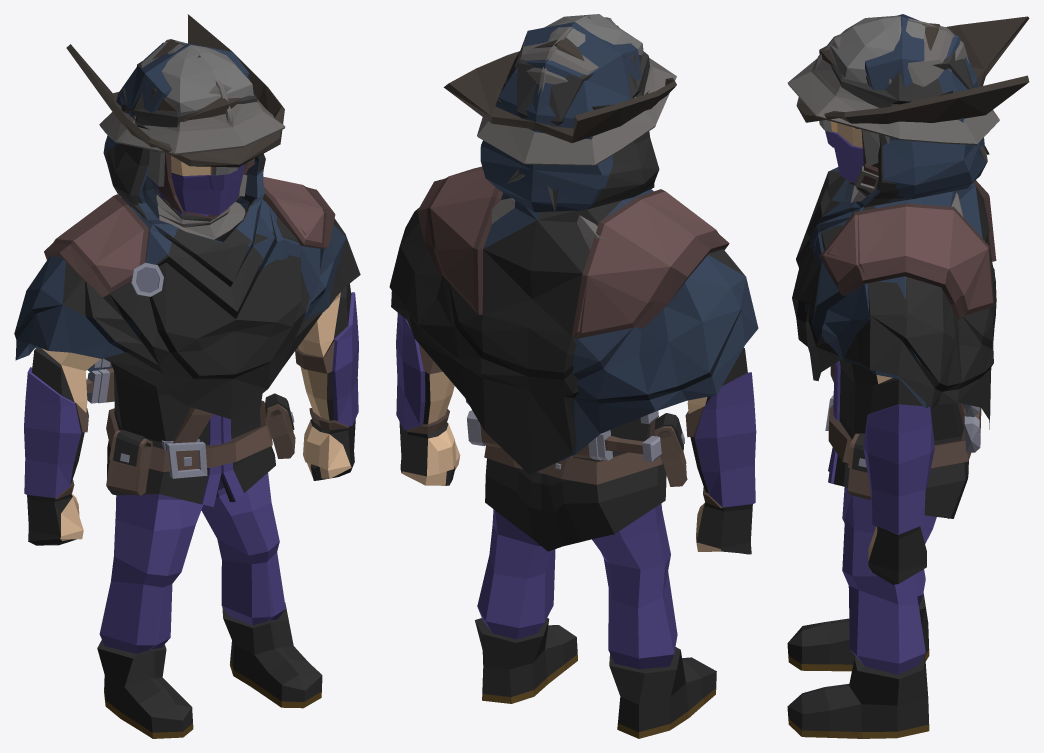
File: HATS_Rogue_male.fbx
The picture shows the model from 3 angles, left to right: view 1: azimuth 30°, elevation 25°; view 2: azimuth 150°, elevation 25°; view 3: azimuth 270°, elevation 25°; orthographic projection. The views are drawn at different scales.
Parts seen in each view (by area): view 1: rogue_03a_hats:rogue_base_male, rogue_03a_hats:shall1, rogue_03a_hats:shall2, rogue_03a_hats:chainHelm, rogue_03a_hats:pothelm, rogue_03a_hats:huntersHat, rogue_03a_hats:bandana; view 2: rogue_03a_hats:rogue_base_male, rogue_03a_hats:shall2, rogue_03a_hats:shall1, rogue_03a_hats:pothelm, rogue_03a_hats:huntersHat, rogue_03a_hats:bandana, rogue_03a_hats:chainHelm; view 3: rogue_03a_hats:rogue_base_male, rogue_03a_hats:shall1, rogue_03a_hats:shall2, rogue_03a_hats:pothelm, rogue_03a_hats:huntersHat, rogue_03a_hats:chainHelm, rogue_03a_hats:bandana.
Part boxes in pixels (x1=…): rogue_03a_hats:rogue_base_male: x1=24, y1=155, x2=358, y2=738; rogue_03a_hats:shall1: x1=48, y1=107, x2=360, y2=419; rogue_03a_hats:shall2: x1=14, y1=42, x2=346, y2=371; rogue_03a_hats:chainHelm: x1=119, y1=42, x2=254, y2=239; rogue_03a_hats:pothelm: x1=99, y1=39, x2=285, y2=219; rogue_03a_hats:huntersHat: x1=66, y1=14, x2=284, y2=167; rogue_03a_hats:bandana: x1=121, y1=61, x2=257, y2=127; rogue_03a_hats:rogue_base_male: x1=396, y1=313, x2=756, y2=738; rogue_03a_hats:shall2: x1=425, y1=22, x2=758, y2=474; rogue_03a_hats:shall1: x1=389, y1=131, x2=745, y2=474; rogue_03a_hats:pothelm: x1=477, y1=17, x2=676, y2=165; rogue_03a_hats:huntersHat: x1=443, y1=16, x2=676, y2=142; rogue_03a_hats:bandana: x1=497, y1=51, x2=649, y2=211; rogue_03a_hats:chainHelm: x1=491, y1=14, x2=643, y2=249; rogue_03a_hats:rogue_base_male: x1=787, y1=121, x2=981, y2=738; rogue_03a_hats:shall1: x1=792, y1=75, x2=996, y2=429; rogue_03a_hats:shall2: x1=804, y1=14, x2=994, y2=408; rogue_03a_hats:pothelm: x1=787, y1=18, x2=999, y2=191; rogue_03a_hats:huntersHat: x1=796, y1=16, x2=1029, y2=128; rogue_03a_hats:chainHelm: x1=819, y1=15, x2=963, y2=217; rogue_03a_hats:bandana: x1=830, y1=51, x2=989, y2=162.
Bounding box in the file's own units: 495 × 902 × 292.
